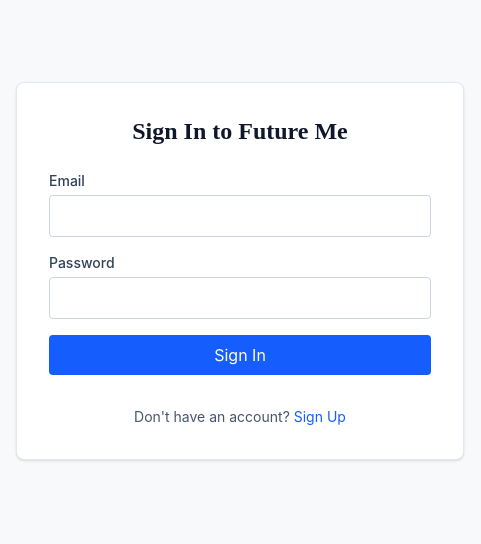
Scenario: AuthPage › handles generic sign up error
Click the button "Sign Up" at (320, 417), box [294,407,346,427]
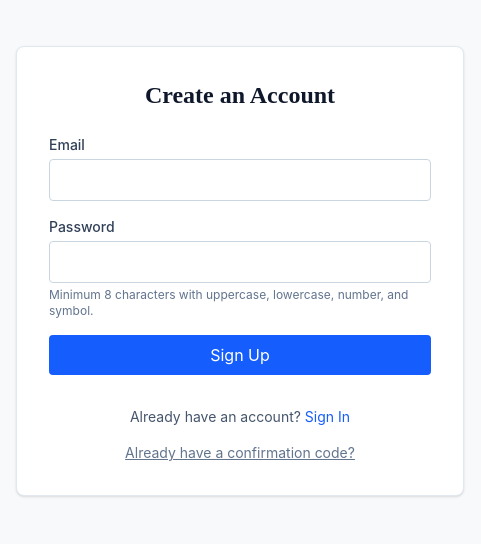
Type "test@example.com" into the field labelled "Email" at (240, 180), box [49,159,431,201]
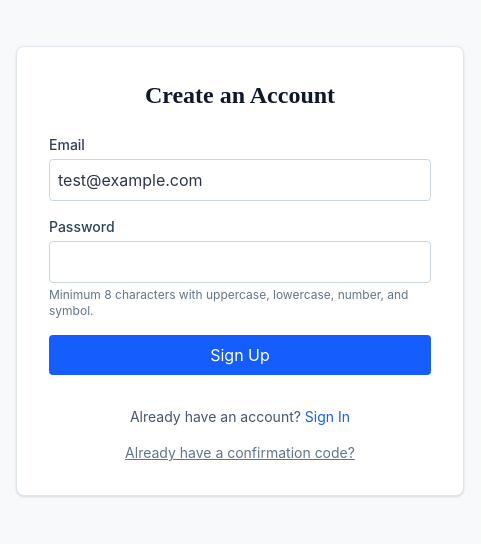
Type "Valid123!" into the password field labelled "Password" at (240, 262), box [49,241,431,283]
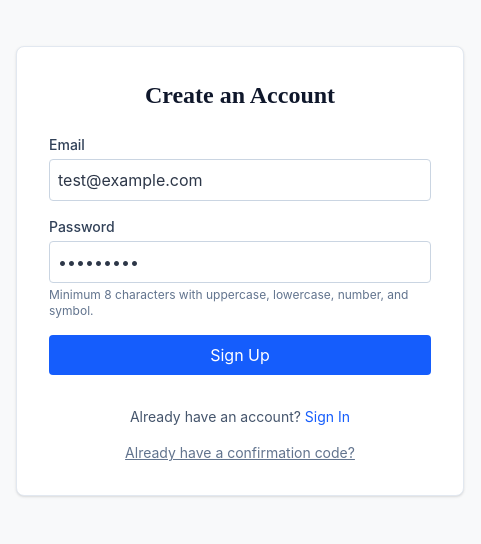
Click the button "Sign Up" at (240, 355), box [49,335,431,375]
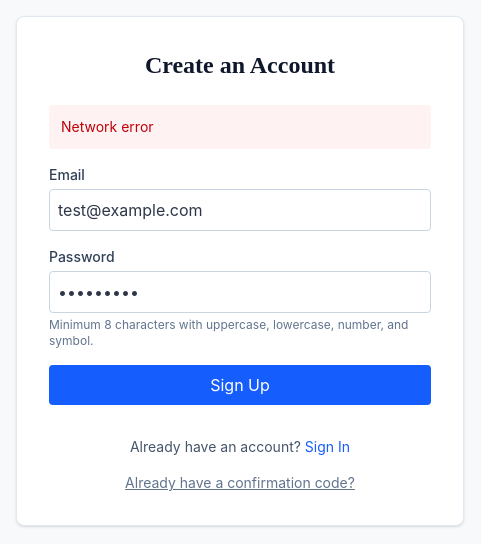
Check: the button "Sign Up" is enabled, box [49,365,431,405]
Check: the message reads "Network error", box [61,118,154,135]
